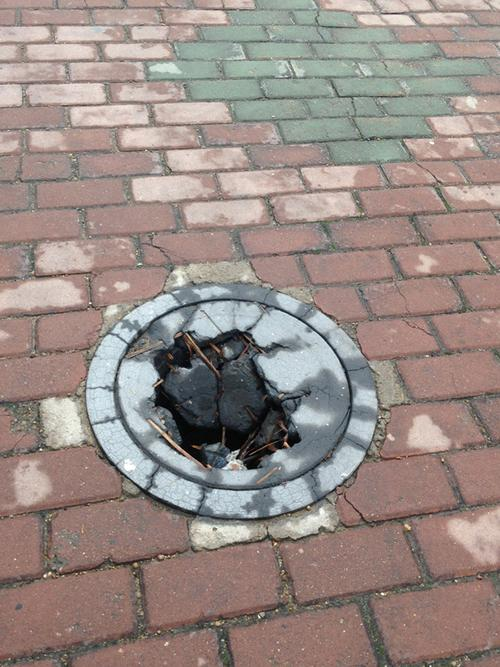broke: (66, 270, 391, 521)
